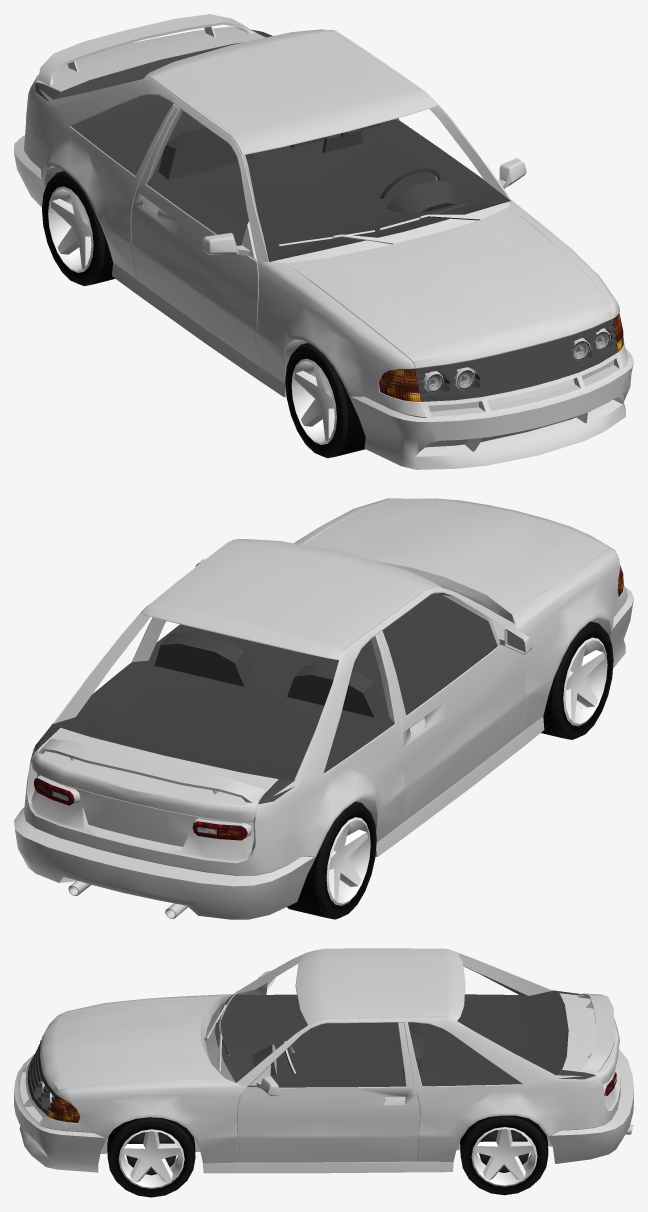
Rendered from traffic-sedan-white.glb.
3 views of the same model, one above another, from view 1: azimuth 30°, elevation 25°; view 2: azimuth 150°, elevation 25°; view 3: azimuth 270°, elevation 25° (orthographic). The views are drawn at different scales.
Visible parts, largest first — view 1: Object_508, Object_506, Object_46, Object_336, Object_504; view 2: Object_508, Object_506, Object_46, Object_336, Object_504; view 3: Object_508, Object_506, Object_46, Object_336, Object_504.
Boxes of the visible parts, x1,y1,x2,y2 form: Object_508: (14, 14, 633, 469); Object_506: (35, 29, 618, 401); Object_46: (42, 171, 380, 458); Object_336: (48, 186, 336, 444); Object_504: (379, 313, 623, 401); Object_508: (14, 498, 633, 919); Object_506: (35, 593, 509, 804); Object_46: (287, 621, 613, 919); Object_336: (326, 637, 607, 905); Object_504: (34, 565, 623, 840); Object_508: (14, 948, 633, 1173); Object_506: (27, 966, 595, 1115); Object_46: (107, 1115, 548, 1197); Object_336: (118, 1127, 537, 1188); Object_504: (40, 1041, 616, 1122).
Bounding box in the file's own units: 0.1607 × 0.1089 × 0.3614.
Materials: 5 (2 with a texture image).
